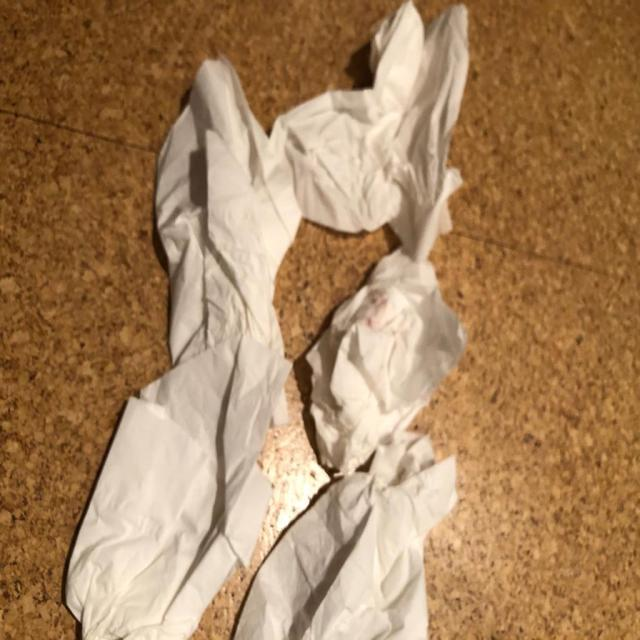kitchen paper: (61, 52, 301, 640), (269, 0, 469, 267), (231, 421, 465, 640), (302, 245, 465, 462)
